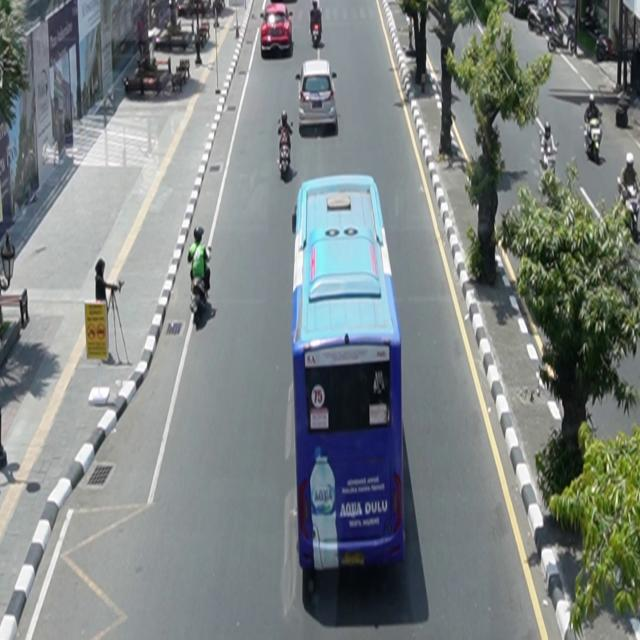bus: (292, 174, 407, 576)
car: (296, 59, 339, 135), (261, 3, 294, 58)
